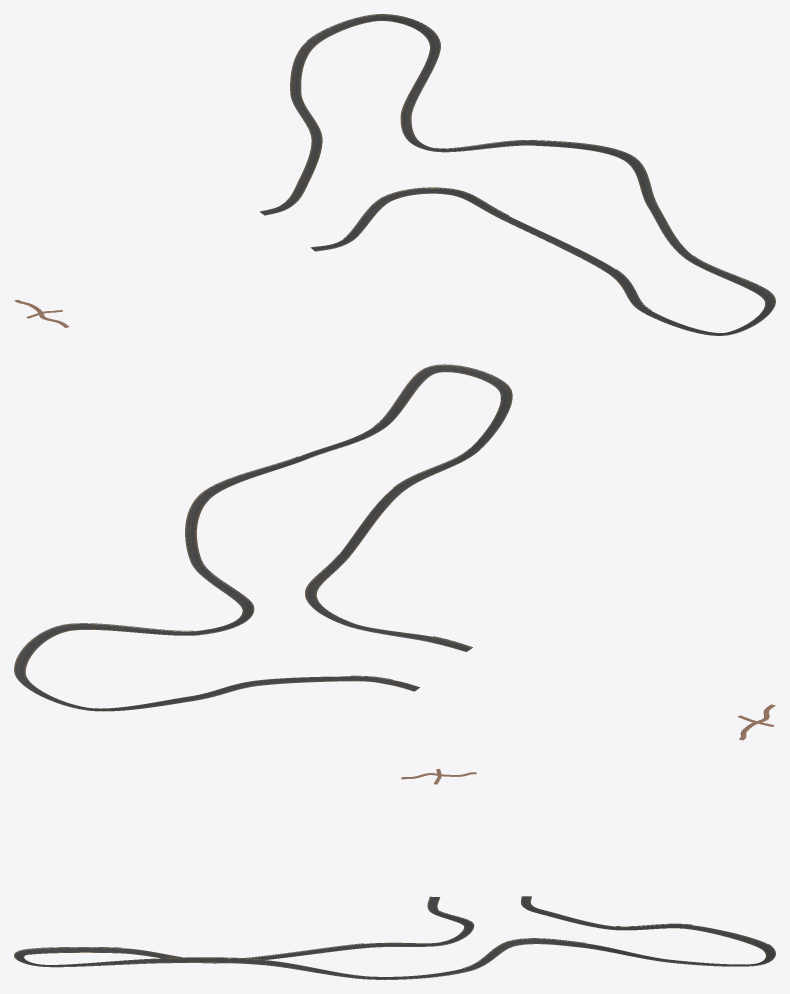
Rendered from Roads.FBX.
3 views of the same model, one above another, from view 1: azimuth 30°, elevation 25°; view 2: azimuth 150°, elevation 25°; view 3: azimuth 270°, elevation 25° (orthographic). The views are drawn at different scales.
Parts seen in each view (by area): view 1: Asphalt Road, Barriers; view 2: Asphalt Road, Barriers; view 3: Asphalt Road, Barriers.
Part boxes in pixels (bbox=[...]): Asphalt Road: bbox=[259, 14, 775, 335]; Barriers: bbox=[289, 14, 775, 335]; Asphalt Road: bbox=[14, 365, 512, 711]; Barriers: bbox=[14, 364, 512, 710]; Asphalt Road: bbox=[14, 896, 775, 979]; Barriers: bbox=[14, 897, 775, 979].
Size of the model in its own units: 2255 by 206 by 2832.
3 materials, 3 textured.
